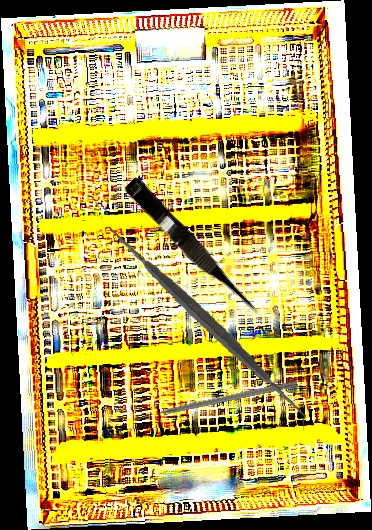Hook Surgical: (140, 378, 299, 420)
Micro Scissor: (120, 175, 265, 324)
Spatula Surgical: (97, 214, 318, 431)
